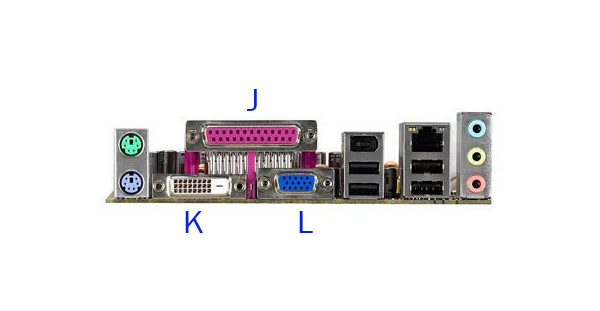DVI: (169, 176, 230, 197)
Ethernet: (405, 125, 447, 158)
VGA: (275, 173, 320, 194)
